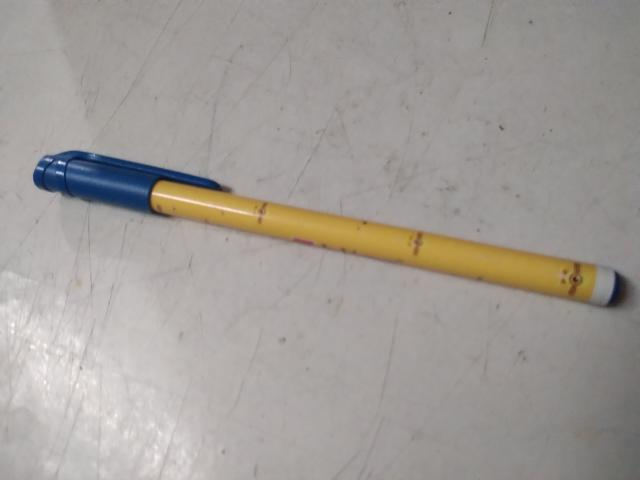PEN: (17, 132, 640, 328)
